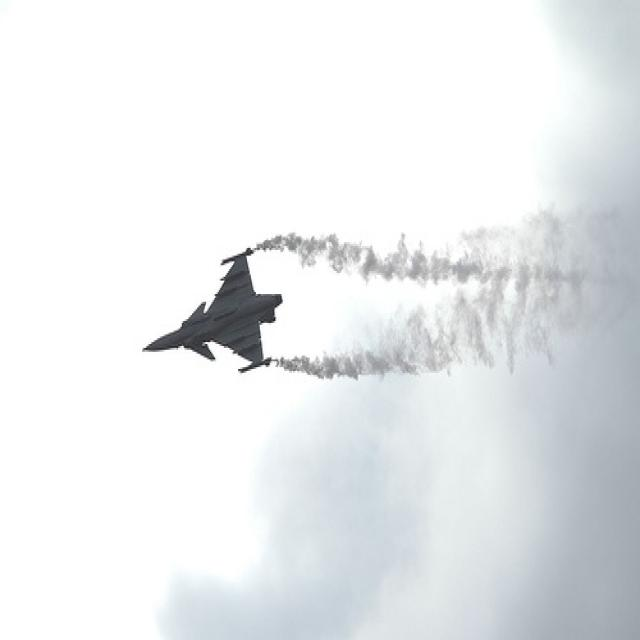aeroplane: (139, 244, 283, 373)
